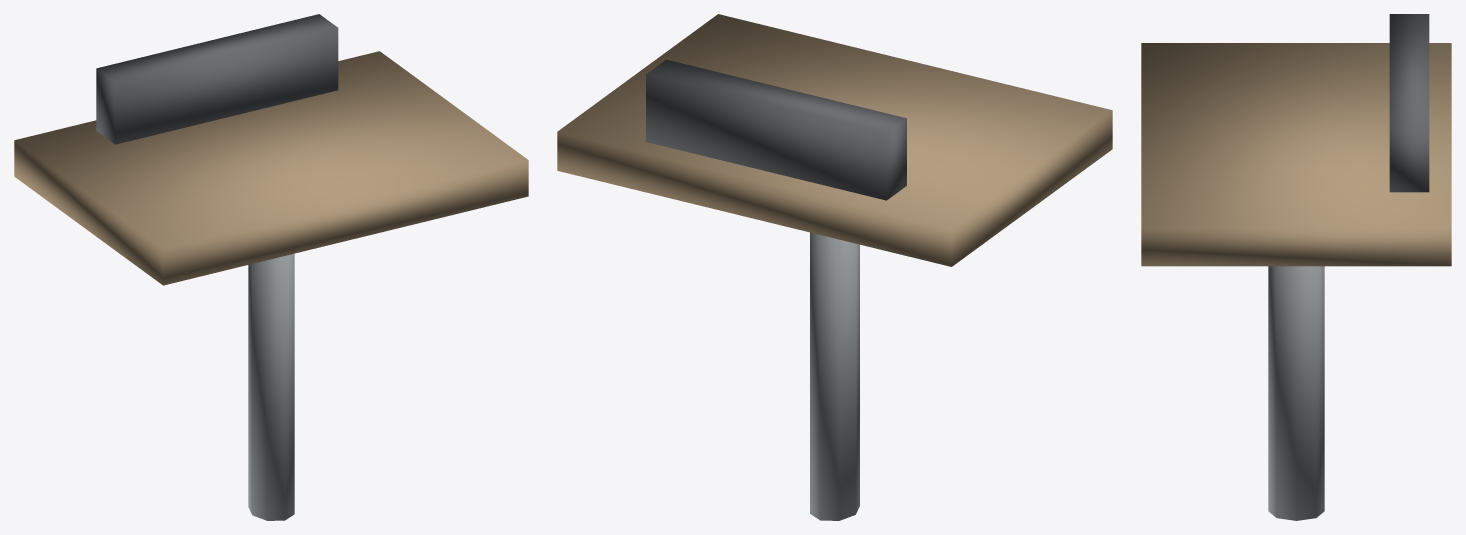
File: deposit_desk__deep.glb
3 views of the same model, side by side, from view 1: azimuth 30°, elevation 25°; view 2: azimuth 150°, elevation 25°; view 3: azimuth 270°, elevation 25° (orthographic). The views are drawn at different scales.
Visible parts, largest first — view 1: world; view 2: world; view 3: world.
Boxes of the visible parts, box(x1,y1,x2,y2) form: world: box(14, 14, 528, 520); world: box(557, 14, 1112, 520); world: box(1141, 14, 1451, 520).
Bounding box in the file's own units: 0.95 × 1.05 × 0.671.
